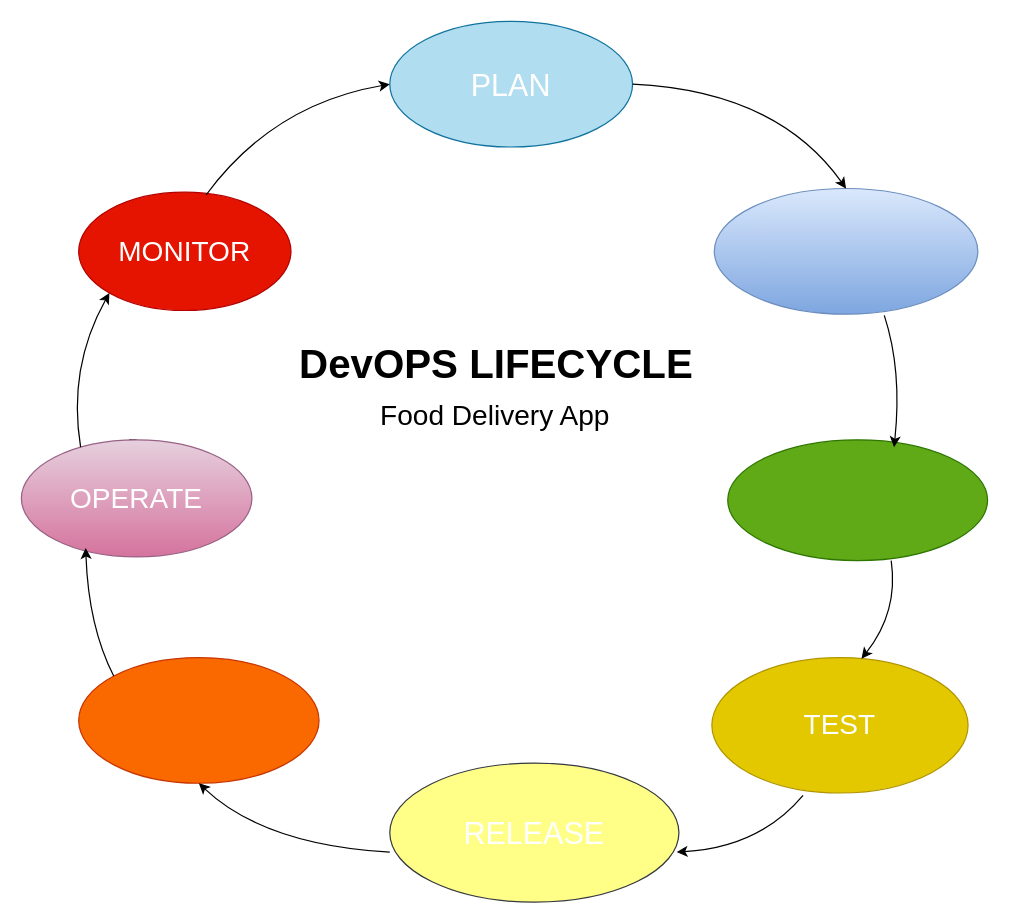
Some shapes in this 1009 by 924 pixel diagram are drawn without their labels. Here are the shapes that lost their labels. From the top down, the box of each, then its label:
(713, 187, 978, 314): DEVELOP
(727, 439, 988, 561): BUILD
(77, 656, 319, 783): DEPLOY
